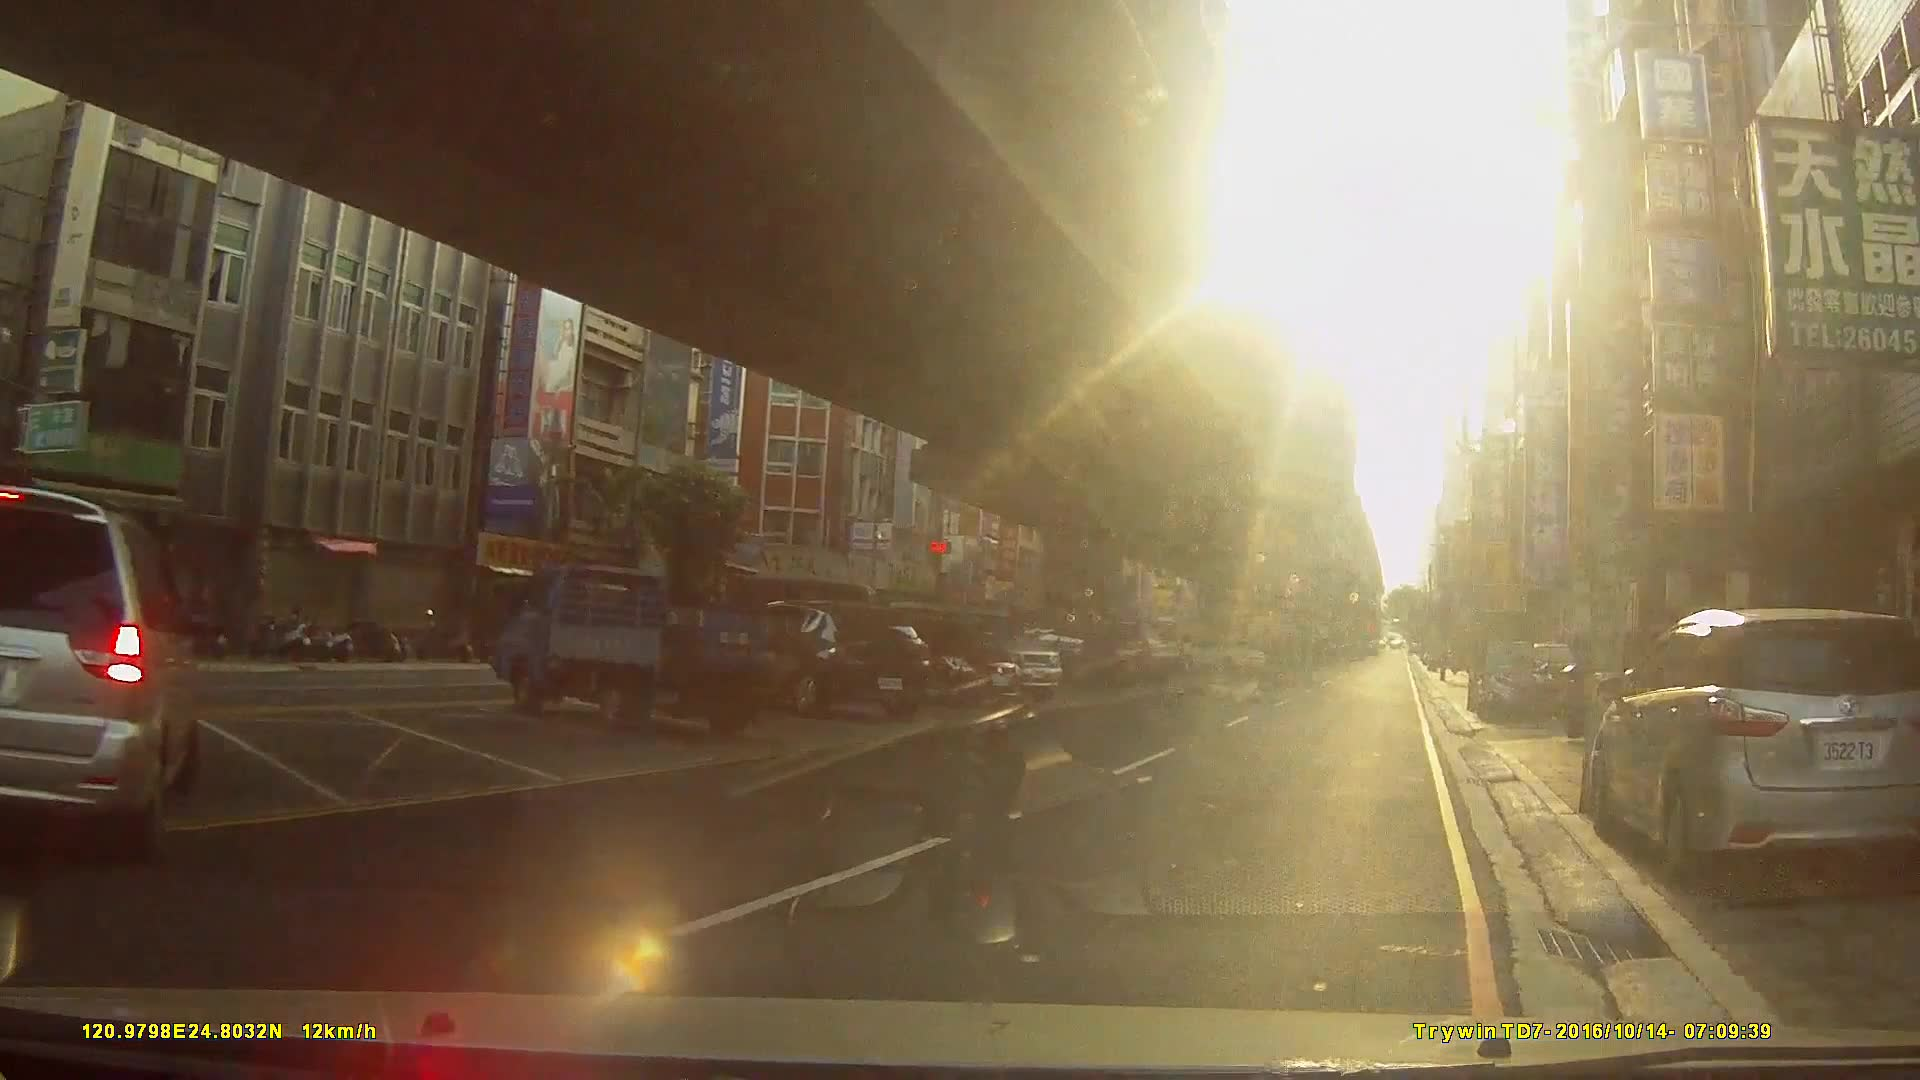vehicle: (1584, 605, 1919, 884), (0, 483, 199, 864), (485, 560, 800, 736), (731, 597, 931, 720), (851, 611, 1022, 705), (985, 626, 1126, 686)
